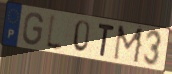0: (71, 19, 91, 54)
3: (142, 28, 163, 70)
G: (21, 11, 45, 47)
L: (44, 12, 65, 55)
M: (112, 24, 146, 66)
T: (97, 22, 116, 59)
